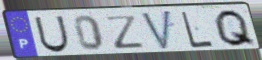0: (73, 14, 106, 54)
L: (179, 10, 216, 49)
Q: (213, 8, 259, 48)
U: (33, 15, 72, 54)
V: (139, 9, 173, 52)
Z: (104, 14, 147, 50)
